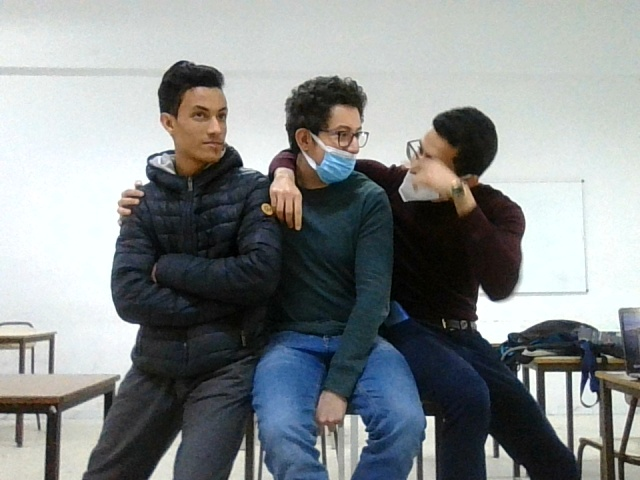mask_weared_incorrect: (282, 75, 374, 188)
without_mask: (152, 64, 245, 169)
